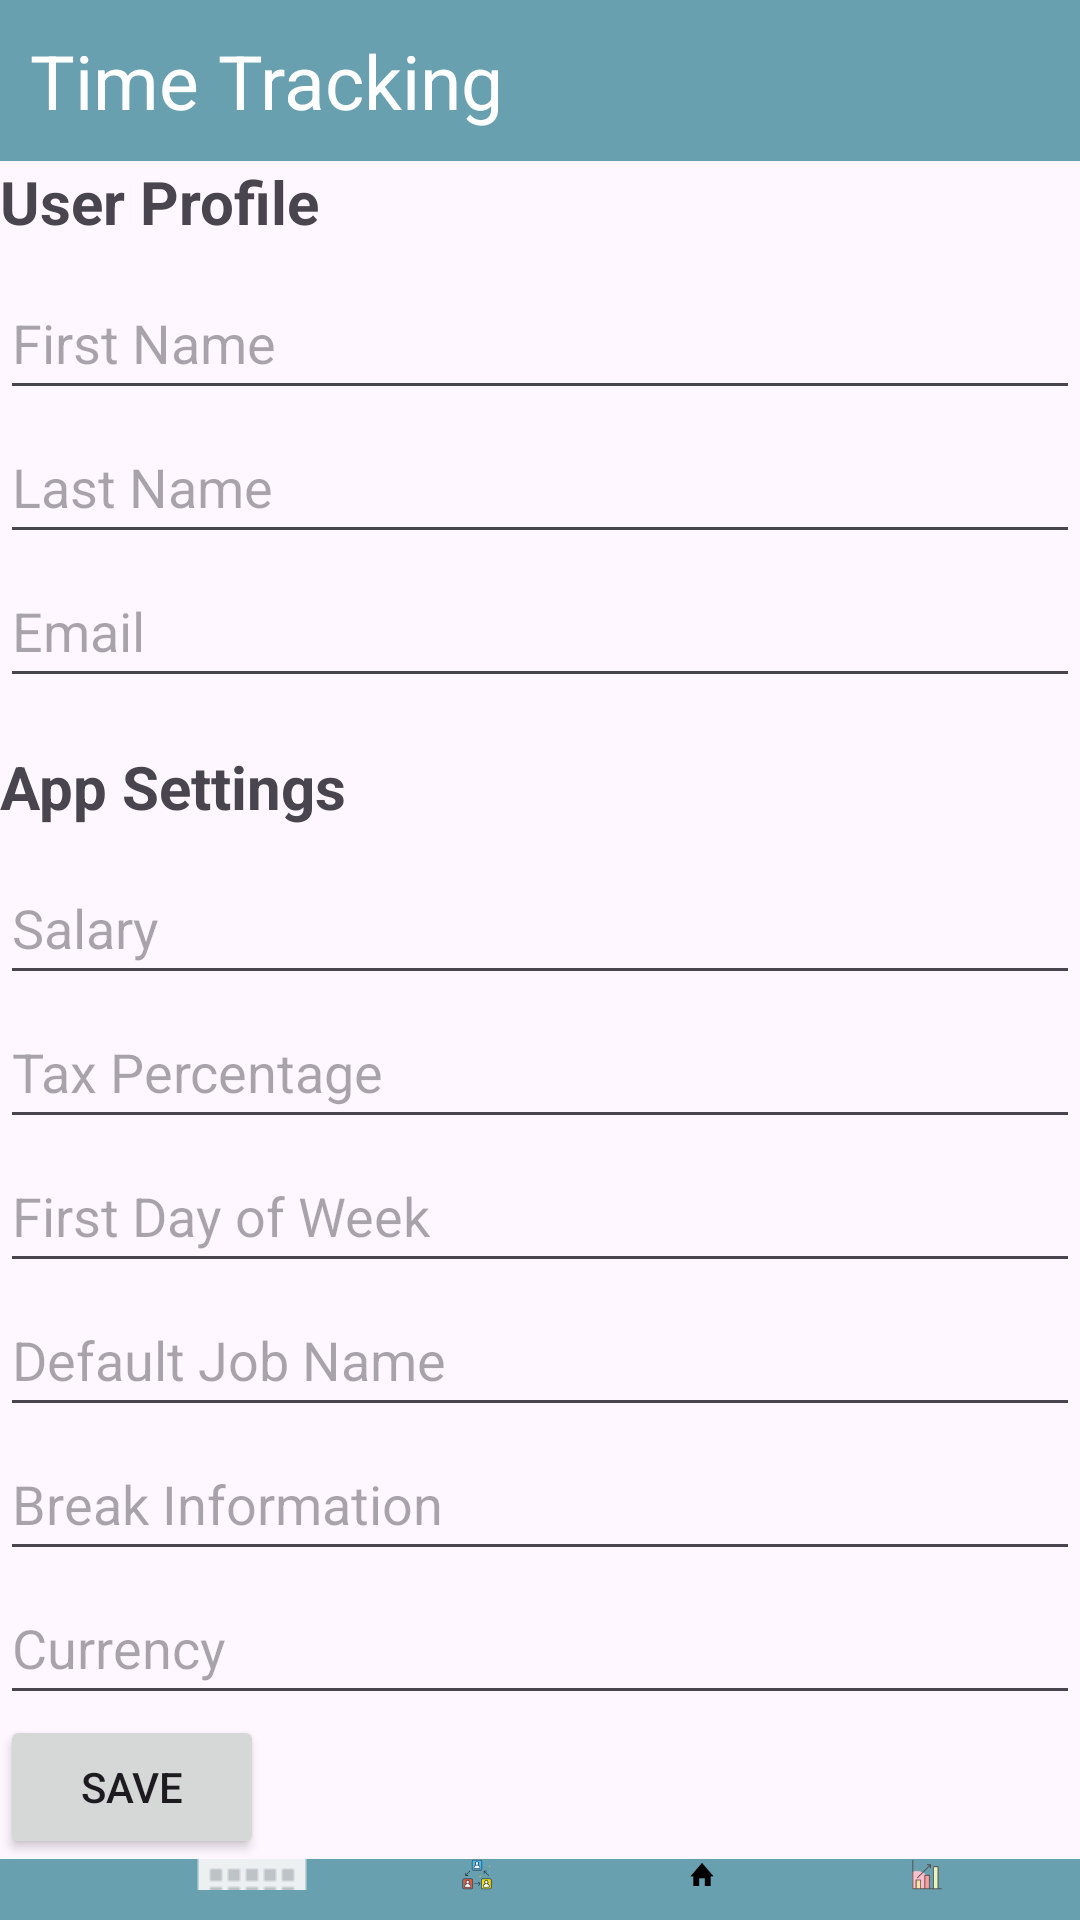

Where to tap for icons on this 1080 x 1920 app screen, as point (x, y):
analytics: point (927, 1874)
